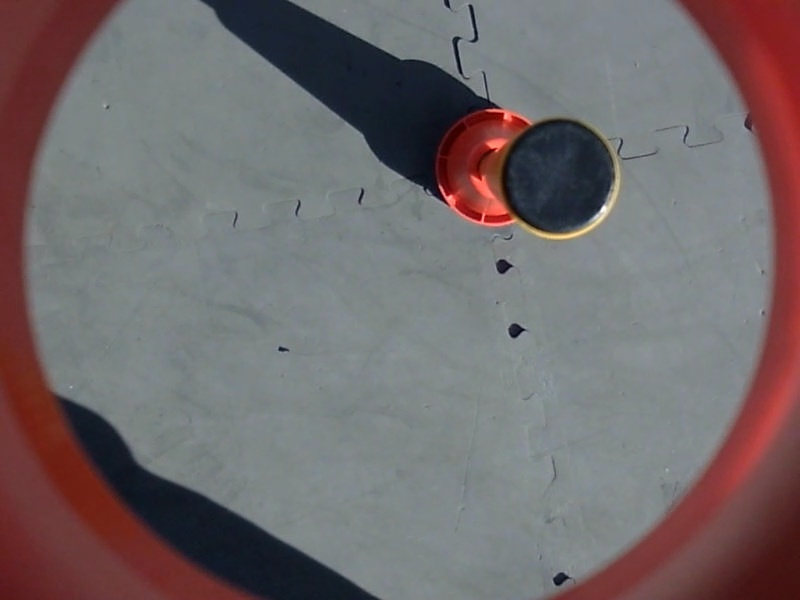tip: (501, 115, 623, 241)
